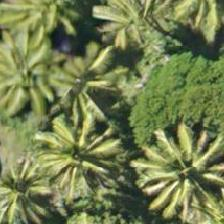coconut_tree: (31, 106, 121, 196), (40, 33, 130, 123), (142, 127, 223, 217), (0, 32, 75, 122), (0, 135, 64, 223), (97, 0, 187, 61), (0, 0, 90, 55)
